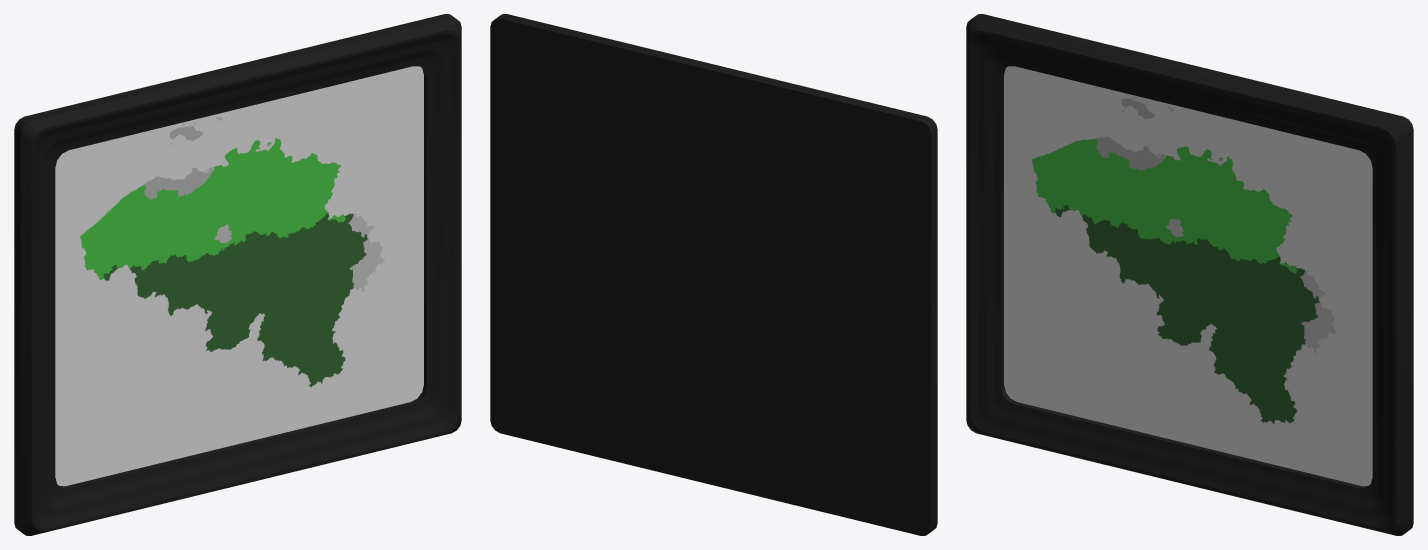
The model's file is Belgium Map.fbx.
3 renders of one model, left to right at view 1: azimuth 30°, elevation 25°; view 2: azimuth 150°, elevation 25°; view 3: azimuth 330°, elevation 25°, orthographic.
Parts seen in each view (by area): view 1: Belgium Map Portrait; view 2: Belgium Map Portrait; view 3: Belgium Map Portrait.
Part boxes in pixels (x1,y1,x2,y2): Belgium Map Portrait: [14, 14, 461, 535]; Belgium Map Portrait: [490, 14, 937, 535]; Belgium Map Portrait: [966, 14, 1413, 535].
Bounding box in the file's own units: 0.3805 × 0.3418 × 0.0174.
